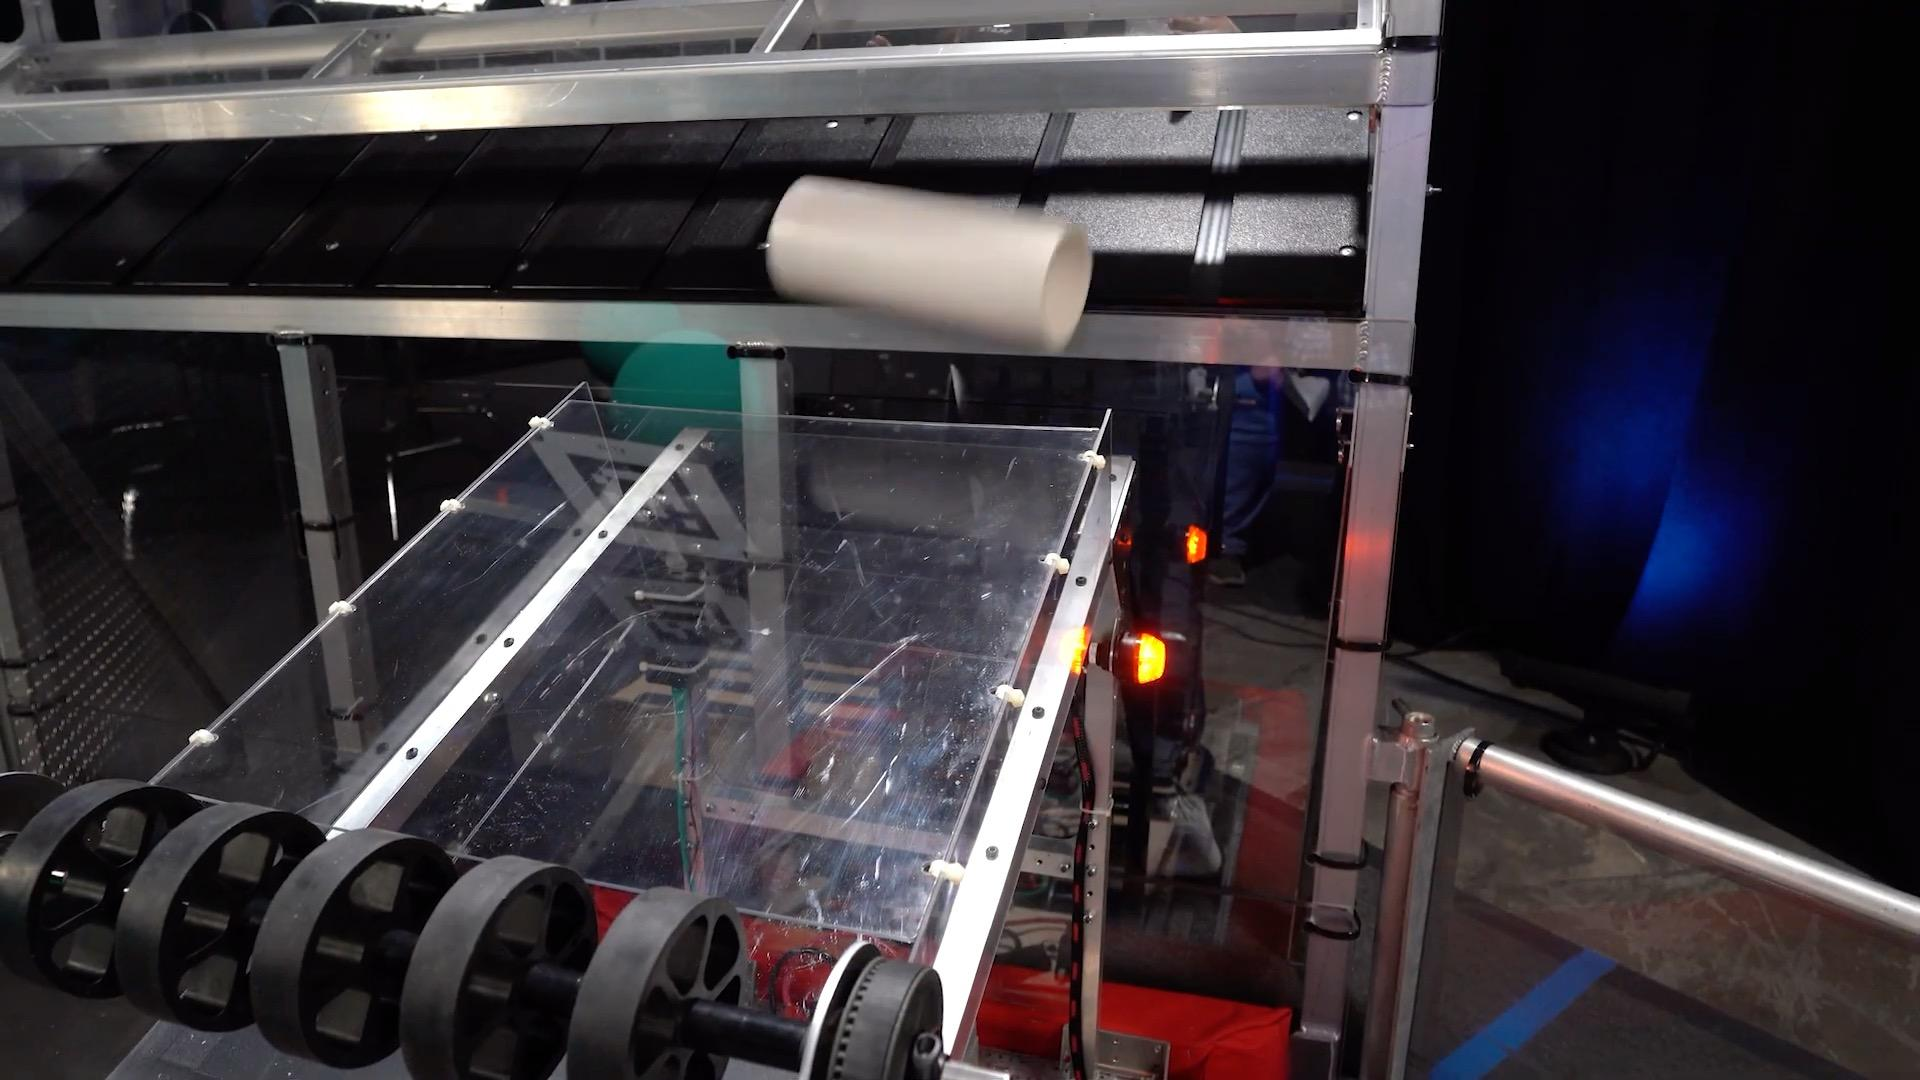CORAL: (765, 177, 1095, 356)
